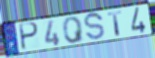4: (44, 19, 62, 47), (131, 6, 147, 34)
P: (19, 21, 40, 52)
Q: (61, 15, 86, 44)
S: (83, 11, 106, 42)
T: (106, 9, 124, 37)
